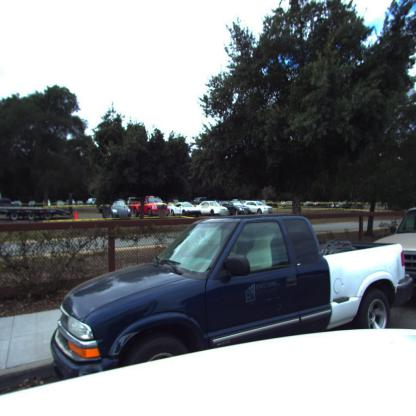car: (364, 186, 414, 298), (138, 196, 168, 219), (170, 201, 201, 216), (242, 202, 274, 216), (197, 201, 225, 215), (222, 200, 248, 214), (111, 200, 131, 218)
truck: (35, 216, 404, 379)
